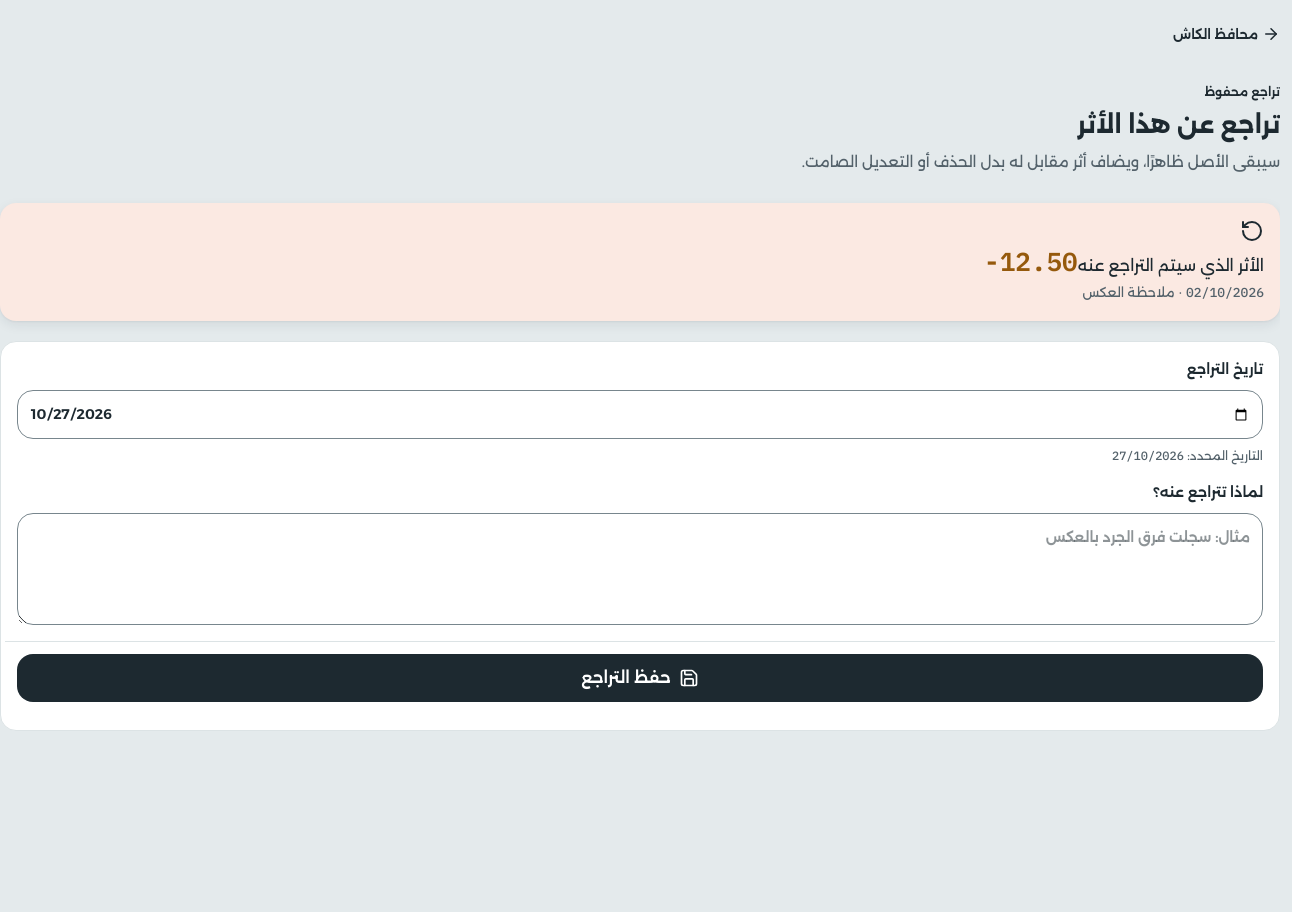
Test: CashReversalEditor — direct page-boundary behavior (R9-W3 + R9 continuation) › rejects a second reversal of the same entry honestly through the service boundary
In the text box: coordinates (640, 569) [17, 513, 1263, 625], type "محاولة تراجع ثانٍ"
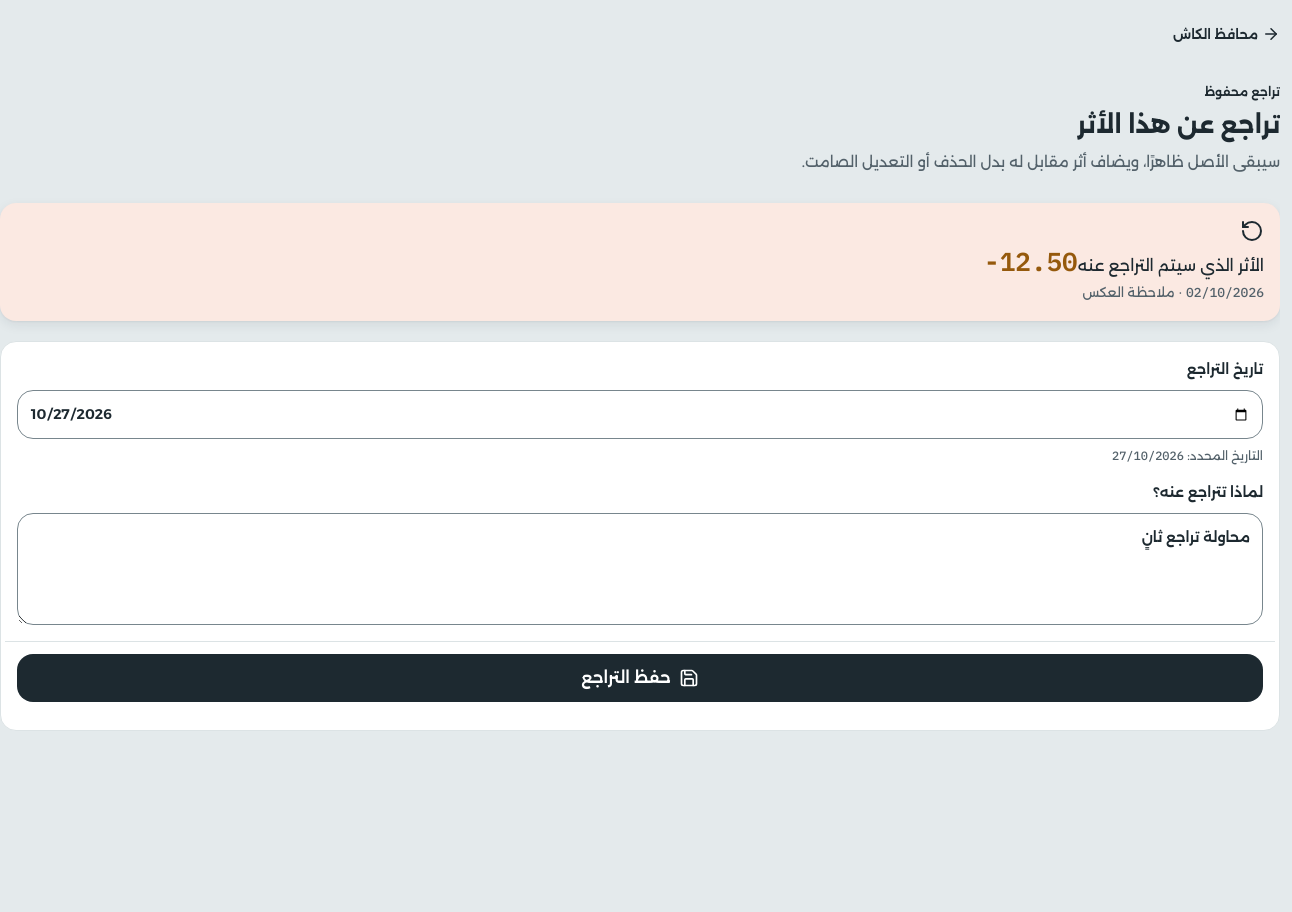
Click the button "حفظ التراجع": coordinates (640, 678) [17, 654, 1263, 702]
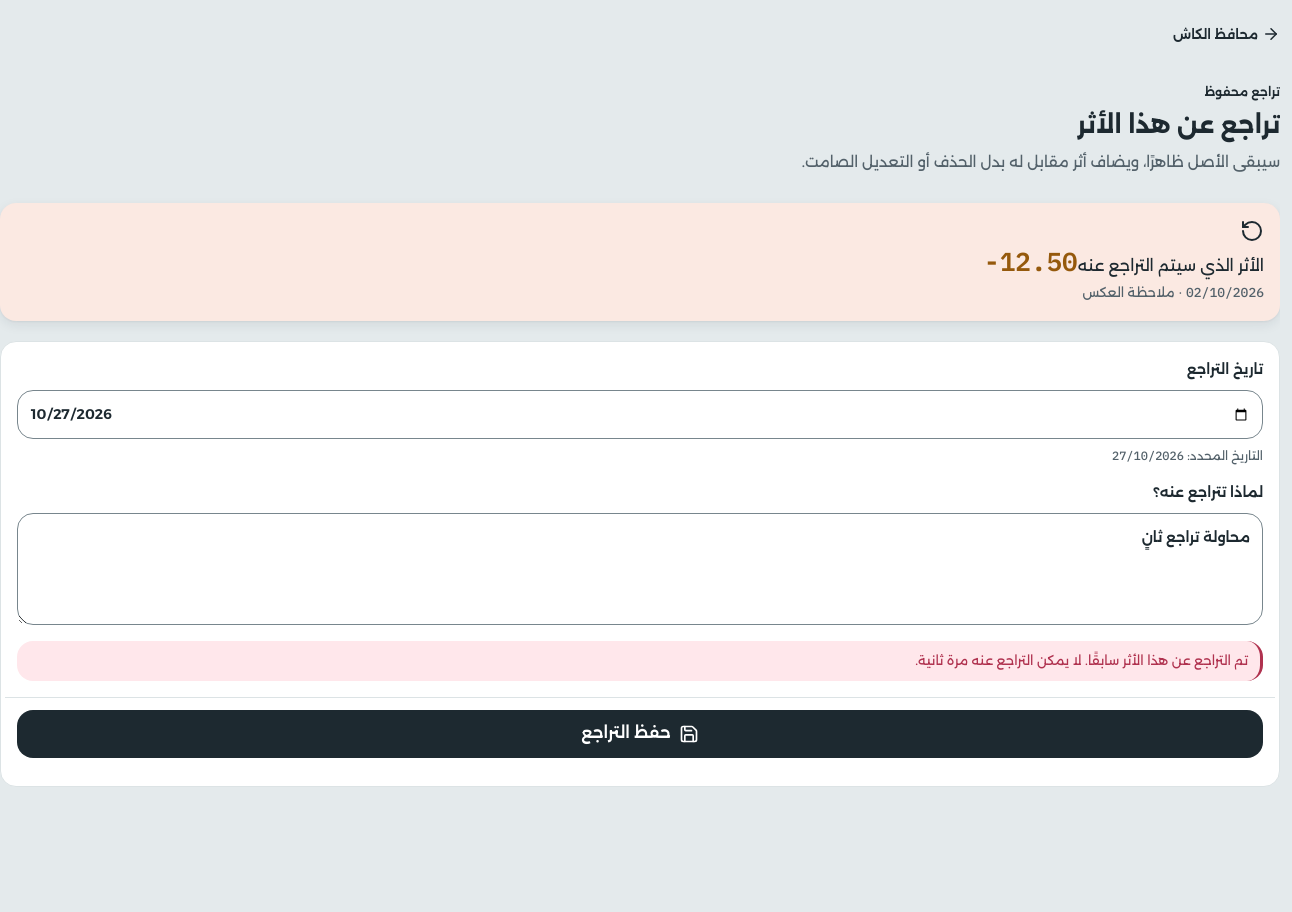
expect the text "تم التراجع عن هذا الأثر سابقًا. لا يمكن التراجع عنه مرة ثانية." is shown: met, box [17, 641, 1263, 681]
